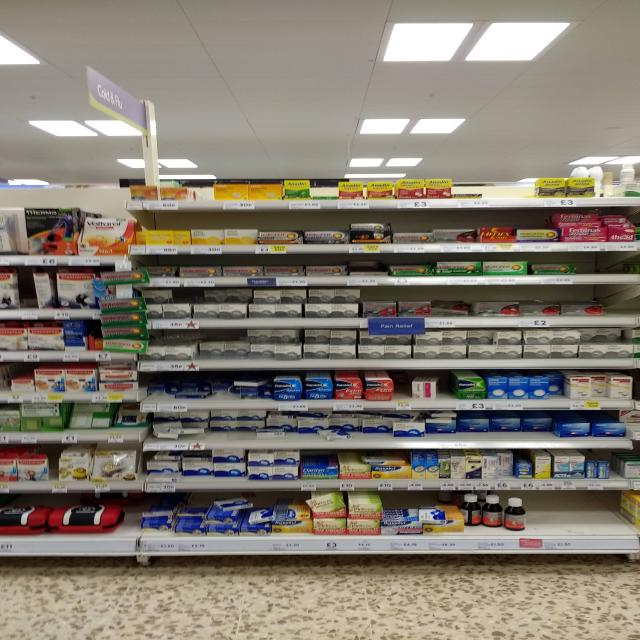void: (526, 492, 563, 551), (558, 492, 594, 552), (595, 492, 628, 552), (604, 257, 640, 284), (482, 178, 512, 208), (576, 254, 604, 283), (512, 178, 536, 207)
